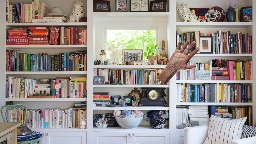Mano_aperta: (164, 37, 200, 71)
